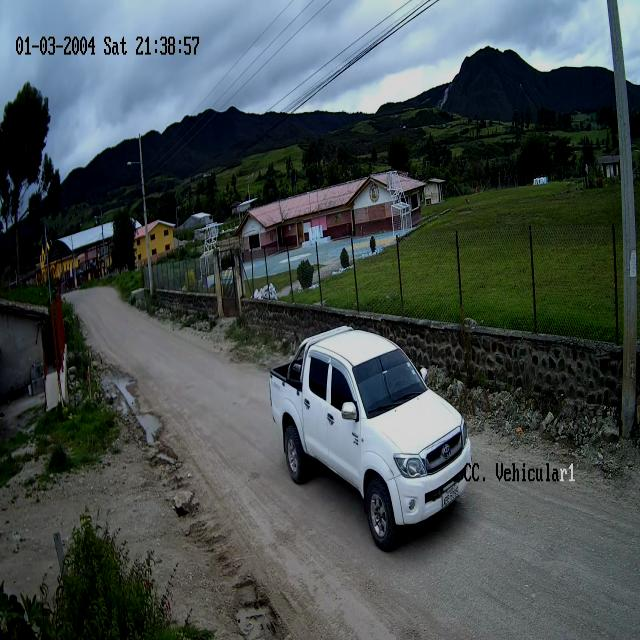CMT: (268, 328, 473, 552)
